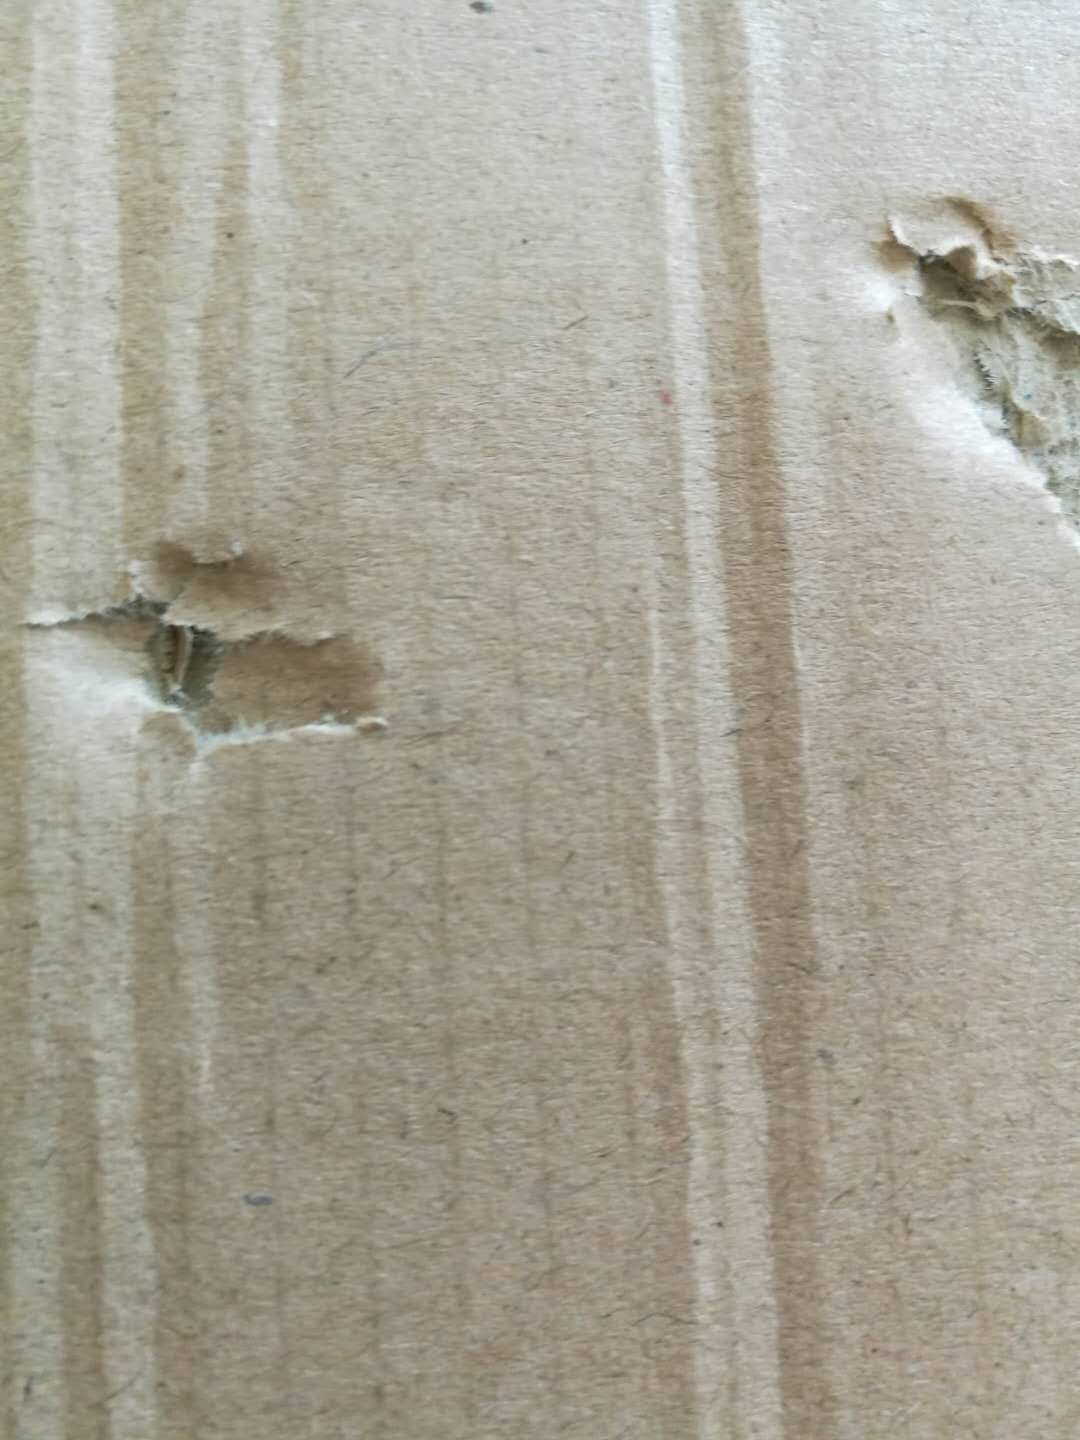defect: (5, 2, 450, 1440), (560, 2, 929, 1440), (2, 458, 431, 822), (832, 162, 1080, 571)
